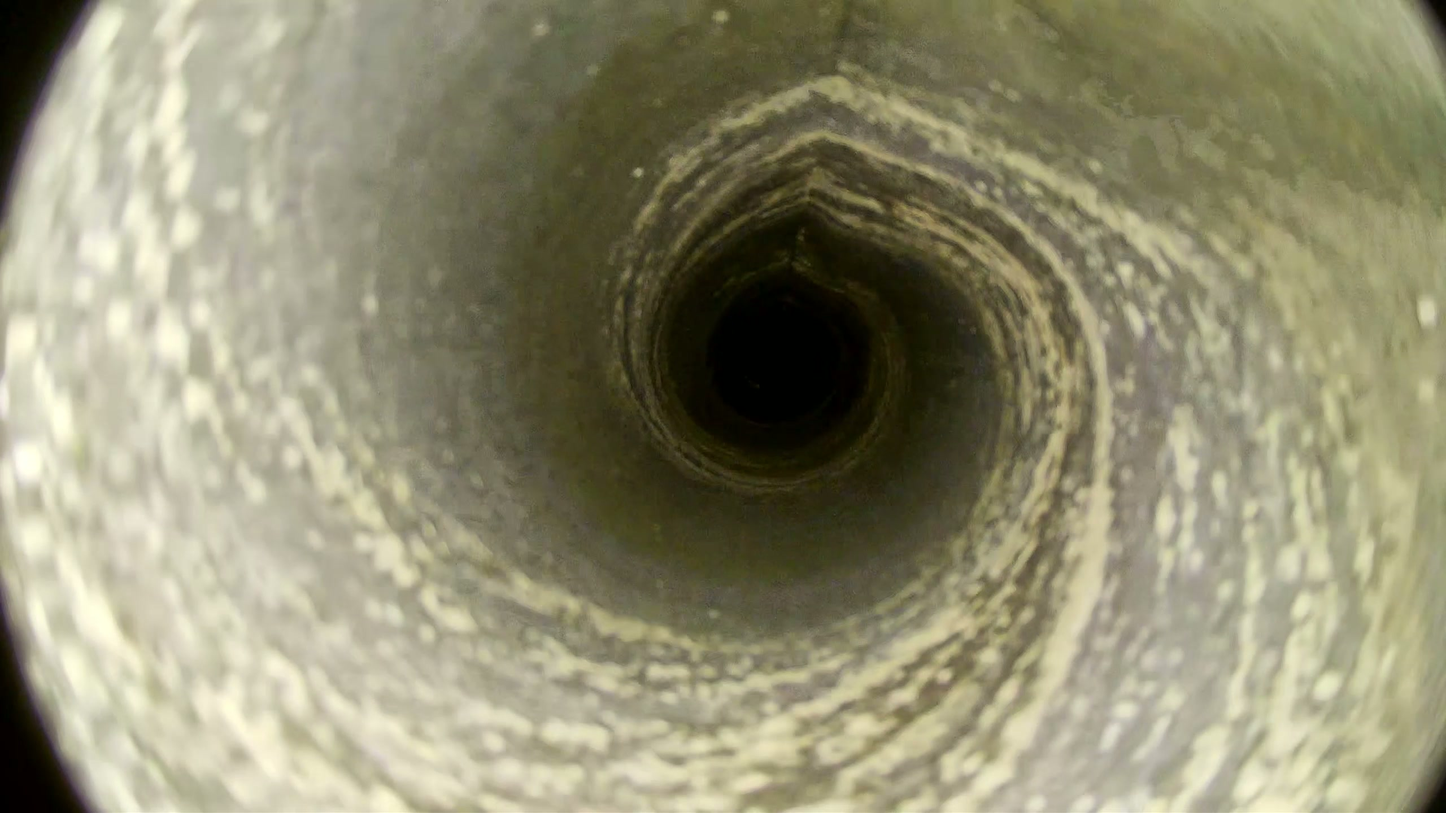hole: (717, 308, 837, 421)
